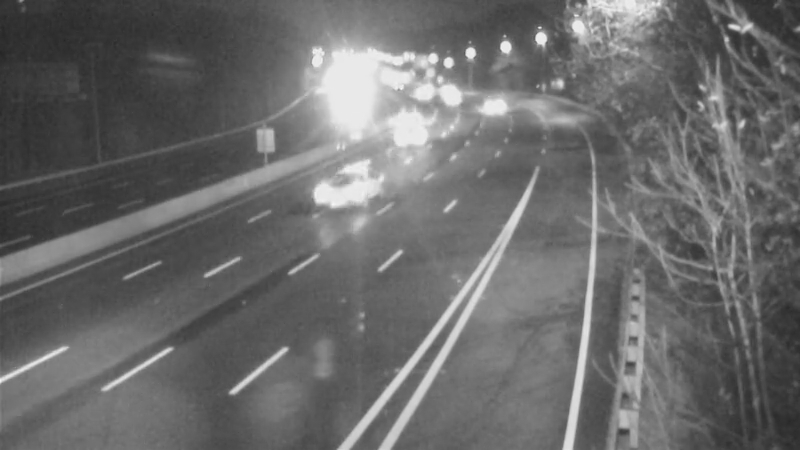vehicle: (311, 154, 391, 234), (383, 91, 433, 141), (383, 109, 433, 159)
